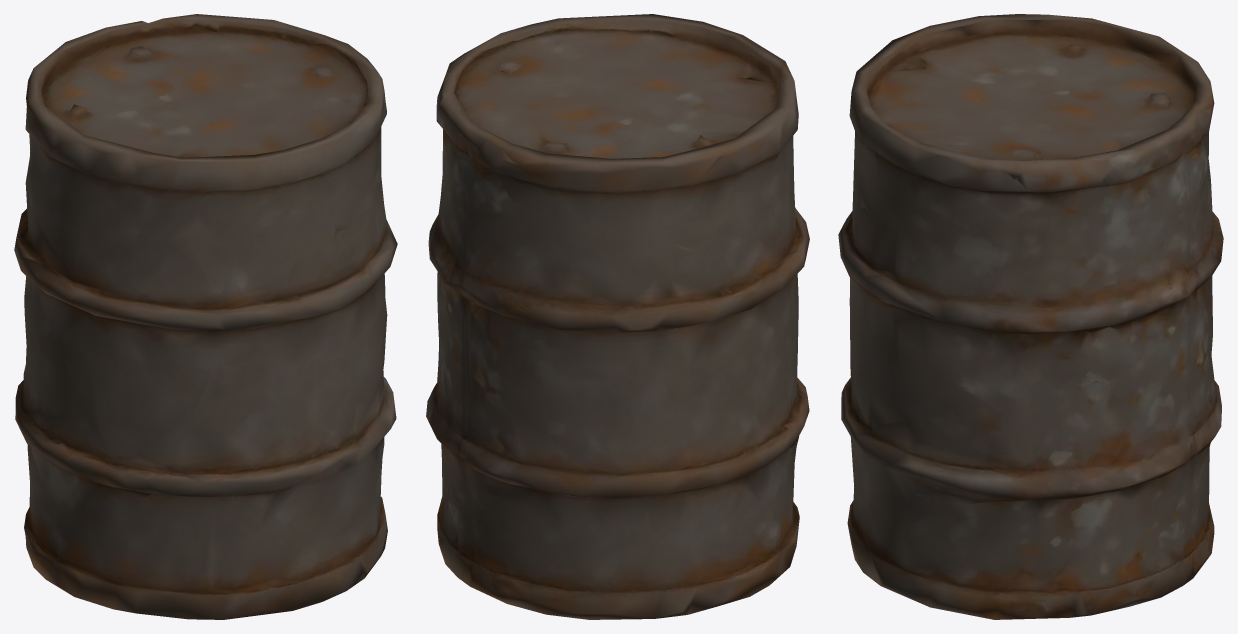
Rendered from barrel_rust.glb.
The picture shows the model from 3 angles, left to right: view 1: azimuth 30°, elevation 25°; view 2: azimuth 150°, elevation 25°; view 3: azimuth 270°, elevation 25°; orthographic projection.
Parts seen in each view (by area): view 1: tripo_node_27977627-bdee-4046-9bd4-bb22aa5e2ef1; view 2: tripo_node_27977627-bdee-4046-9bd4-bb22aa5e2ef1; view 3: tripo_node_27977627-bdee-4046-9bd4-bb22aa5e2ef1.
Boxes of the visible parts, x1,y1,x2,y2 form: tripo_node_27977627-bdee-4046-9bd4-bb22aa5e2ef1: (14, 14, 397, 619); tripo_node_27977627-bdee-4046-9bd4-bb22aa5e2ef1: (426, 14, 809, 619); tripo_node_27977627-bdee-4046-9bd4-bb22aa5e2ef1: (838, 14, 1223, 619).
Bounding box in the file's own units: 0.759 × 1 × 0.7602.
1 material, 1 textured.
